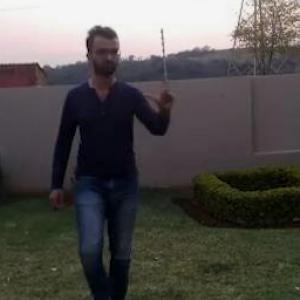land_hand: (142, 65, 180, 110)
